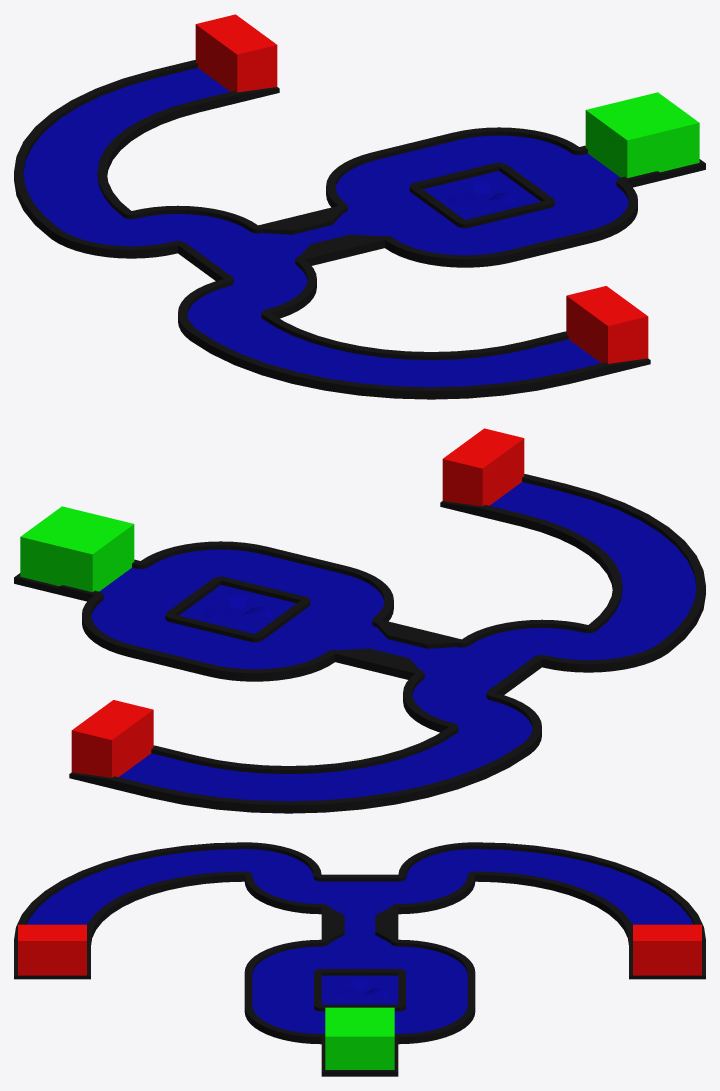
File: track5.glb
The picture shows the model from 3 angles, top to bottom: view 1: azimuth 30°, elevation 25°; view 2: azimuth 150°, elevation 25°; view 3: azimuth 270°, elevation 25°; orthographic projection. The views are drawn at different scales.
Visible parts, largest first — view 1: bend_larger% (×2), bend (×8), split (×3), finish_block (×2), straight (×2), start_block, start (×2), straight_narrowSlope, open, start_closed, plant_large; view 2: bend_larger% (×2), bend (×8), split (×3), finish_block (×2), straight (×2), start_block, start (×2), straight_narrowSlope, open, start_closed, plant_large; view 3: bend_larger% (×2), bend (×8), finish_block (×2), split (×3), straight (×2), start_block, straight_narrowSlope, open, start (×2), start_closed, plant_large.
Boxes of the visible parts, <box> form: bend_larger% (×2): <box>14,70,570,399</box>; bend (×8): <box>51,127,637,340</box>; split (×3): <box>178,147,625,280</box>; finish_block (×2): <box>195,14,648,363</box>; straight (×2): <box>373,132,591,262</box>; start_block: <box>585,92,699,178</box>; start (×2): <box>153,60,650,383</box>; straight_narrowSlope: <box>258,206,384,265</box>; open: <box>423,171,540,219</box>; start_closed: <box>580,145,705,187</box>; plant_large: <box>447,178,516,203</box>; bend_larger% (×2): <box>149,484,705,813</box>; bend (×8): <box>82,541,668,754</box>; split (×3): <box>94,561,541,694</box>; finish_block (×2): <box>71,428,524,777</box>; straight (×2): <box>128,546,346,676</box>; start_block: <box>20,506,134,592</box>; start (×2): <box>69,474,566,797</box>; straight_narrowSlope: <box>335,620,461,679</box>; open: <box>179,585,296,633</box>; start_closed: <box>14,559,139,601</box>; plant_large: <box>203,592,272,617</box>; bend_larger% (×2): <box>14,842,705,944</box>; bend (×8): <box>244,842,475,1044</box>; finish_block (×2): <box>18,924,701,975</box>; split (×3): <box>321,874,398,1037</box>; straight (×2): <box>244,972,475,1008</box>; start_block: <box>325,1007,394,1069</box>; straight_narrowSlope: <box>321,907,398,943</box>; open: <box>321,975,398,1004</box>; start (×2): <box>14,939,705,979</box>; start_closed: <box>321,1037,398,1076</box>; plant_large: <box>331,975,388,996</box>.
Bounding box in the file's own units: 14 × 1.1 × 18.
